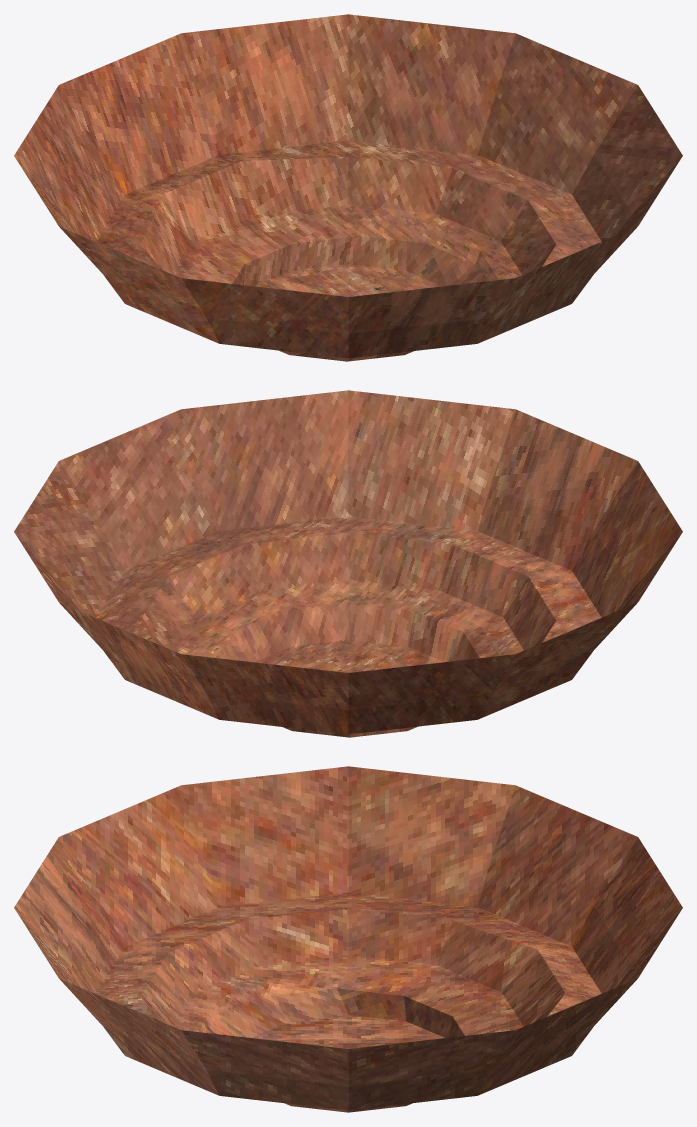
Rendered from RoundGround.glb.
The picture shows the model from 3 angles, top to bottom: view 1: azimuth 30°, elevation 25°; view 2: azimuth 150°, elevation 25°; view 3: azimuth 270°, elevation 25°; orthographic projection.
Parts seen in each view (by area): view 1: ground; view 2: ground; view 3: ground.
Boxes of the visible parts, x1,y1,x2,y2 form: ground: (14, 14, 682, 361); ground: (14, 390, 682, 737); ground: (14, 766, 682, 1112).
Size of the model in its own units: 734 by 190 by 734.
1 material, 1 textured.
